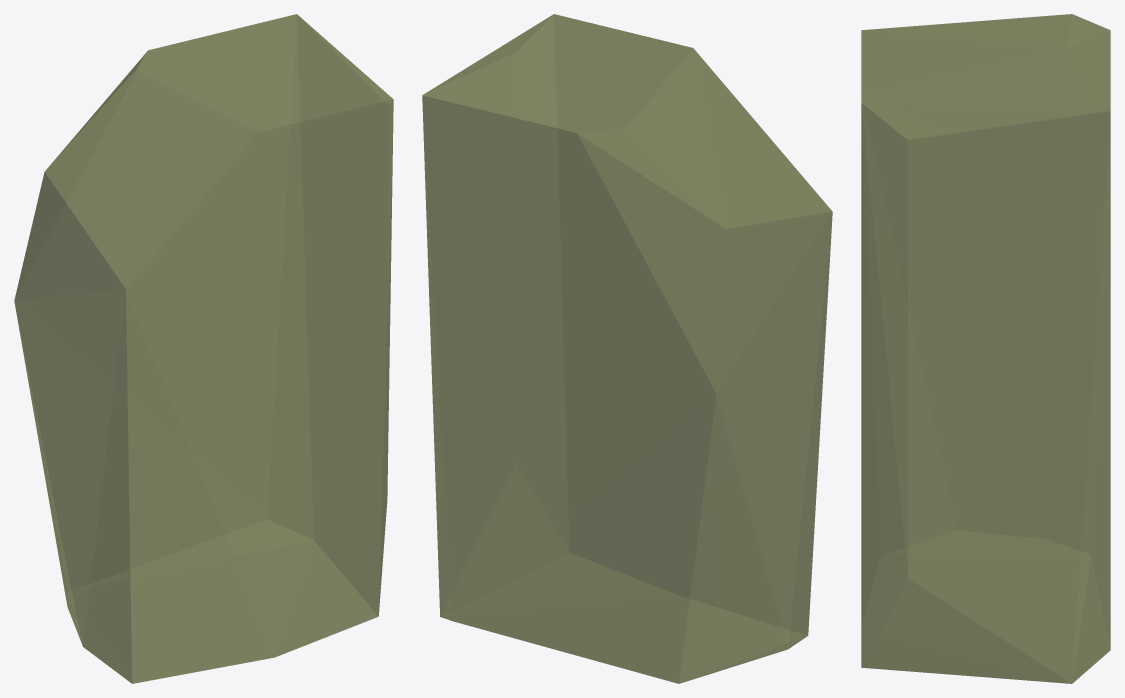
3 views of the same model, side by side, from view 1: azimuth 30°, elevation 25°; view 2: azimuth 150°, elevation 25°; view 3: azimuth 270°, elevation 25° (orthographic). The views are drawn at different scales.
Visible parts, largest first — view 1: Shape_IndexedFaceSet.051_Shape_IndexedFaceSet.9023; view 2: Shape_IndexedFaceSet.051_Shape_IndexedFaceSet.9023; view 3: Shape_IndexedFaceSet.051_Shape_IndexedFaceSet.9023.
Part boxes in pixels (box(x1,y1,x2,y2)): Shape_IndexedFaceSet.051_Shape_IndexedFaceSet.9023: box(14, 14, 393, 683); Shape_IndexedFaceSet.051_Shape_IndexedFaceSet.9023: box(422, 14, 832, 683); Shape_IndexedFaceSet.051_Shape_IndexedFaceSet.9023: box(861, 14, 1110, 683).
Bounding box in the file's own units: 0.1186 × 0.2115 × 0.0809.
